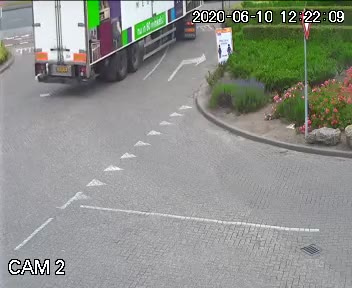car: (26, 0, 201, 102)
